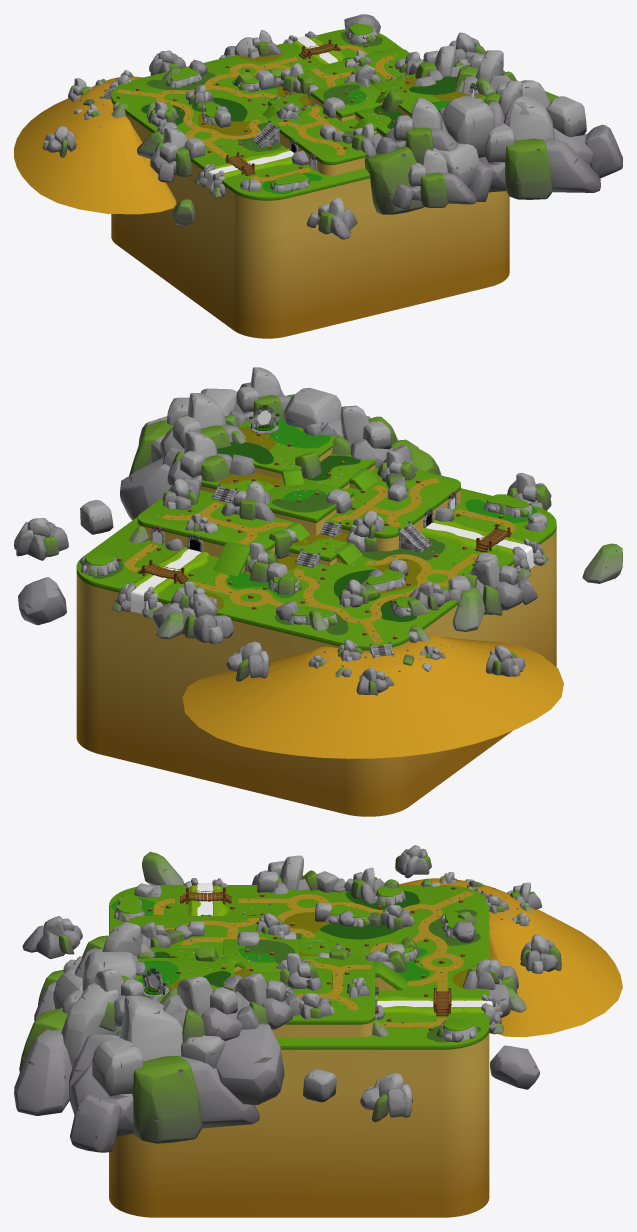
The model's file is LandMass.gltf.
3 renders of one model, top to bottom at view 1: azimuth 30°, elevation 25°; view 2: azimuth 150°, elevation 25°; view 3: azimuth 270°, elevation 25°, orthographic. The views are drawn at different scales.
Visible parts, largest first — view 1: LOD0 (×38); view 2: LOD0 (×47); view 3: LOD0 (×47).
Part boxes in pixels (x1=…): LOD0 (×38): x1=14, y1=24, x2=622, y2=338; LOD0 (×47): x1=14, y1=367, x2=622, y2=816; LOD0 (×47): x1=14, y1=845, x2=622, y2=1217.
Size of what is drawn, in the model's own units: 171 by 70.73 by 160.
5 materials, 1 textured.
